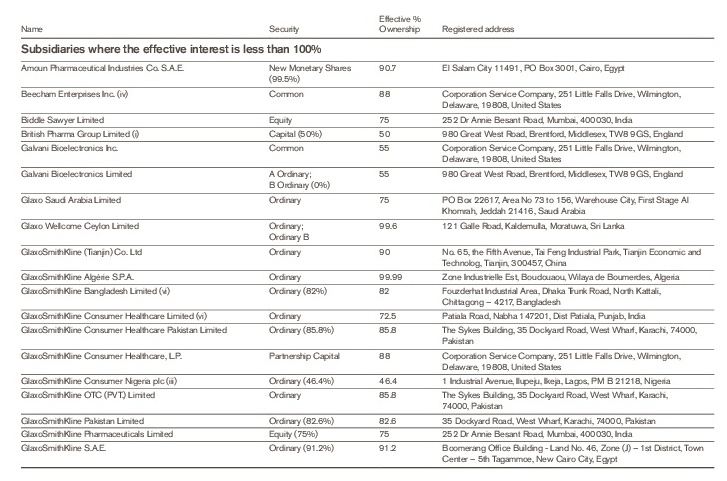table: (0, 0, 727, 481)
